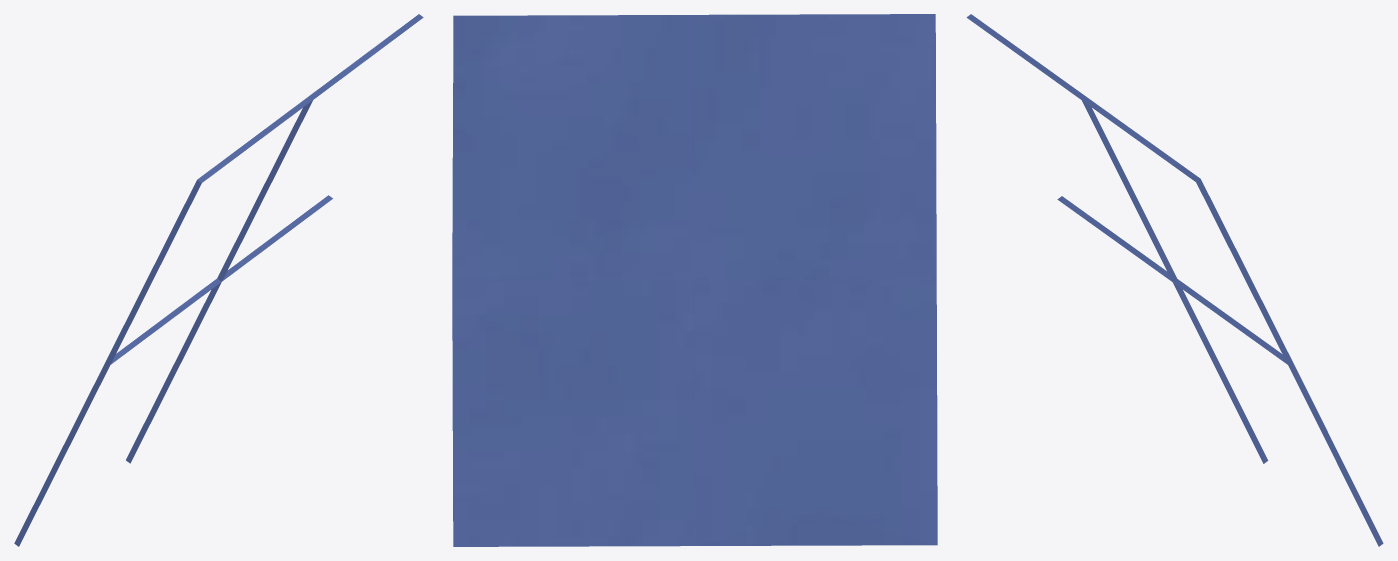
3 views of the same model, side by side, from view 1: azimuth 30°, elevation 25°; view 2: azimuth 150°, elevation 25°; view 3: azimuth 270°, elevation 25° (orthographic). The views are drawn at different scales.
Bounding box in the file's own units: 19658 × 17895 × 16411.
Materials: 1 (1 with a texture image).
